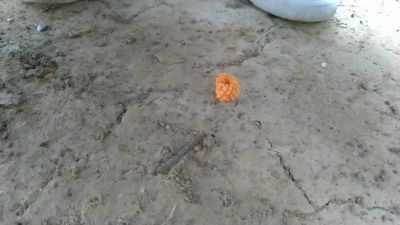eggs: (214, 71, 244, 107)
